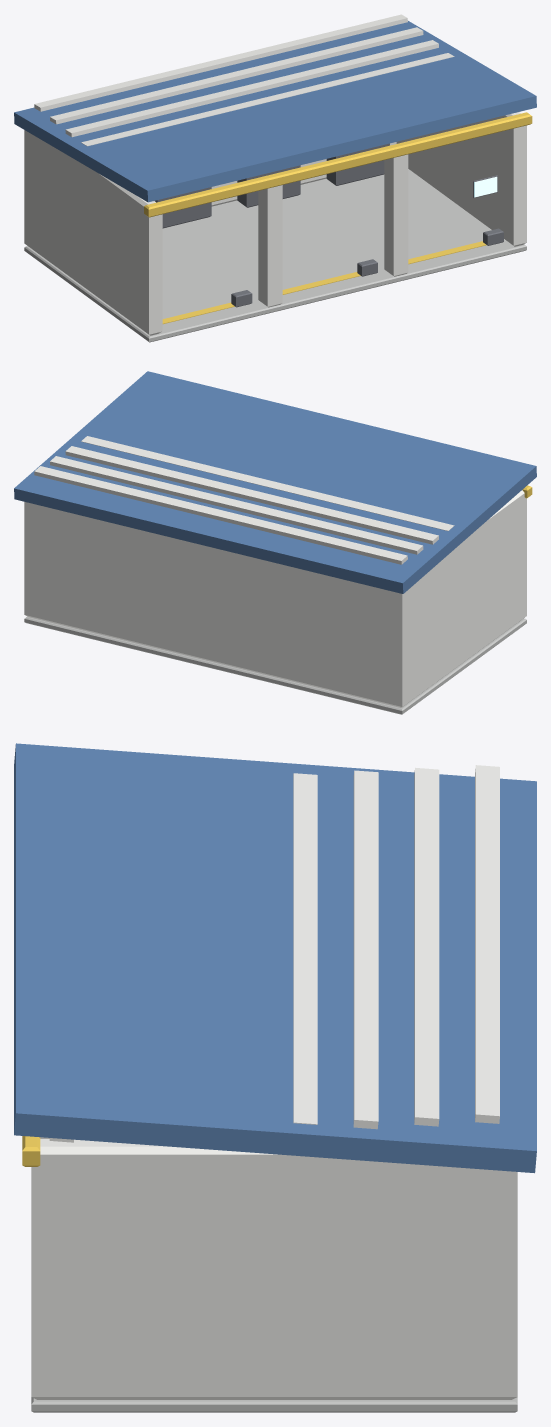
File: gse_store.glb
3 renders of one model, top to bottom at view 1: azimuth 30°, elevation 25°; view 2: azimuth 150°, elevation 25°; view 3: azimuth 270°, elevation 25°, orthographic. The views are drawn at different scales.
Visible parts, largest first — view 1: gse-store; view 2: gse-store; view 3: gse-store.
Boxes of the visible parts, <box> form: gse-store: <box>14,14,536,342</box>; gse-store: <box>14,371,536,714</box>; gse-store: <box>14,743,536,1412</box>.
Bounding box in the file's own units: 14.4 × 5.54 × 8.6.
Materials: 1 (1 with a texture image).
